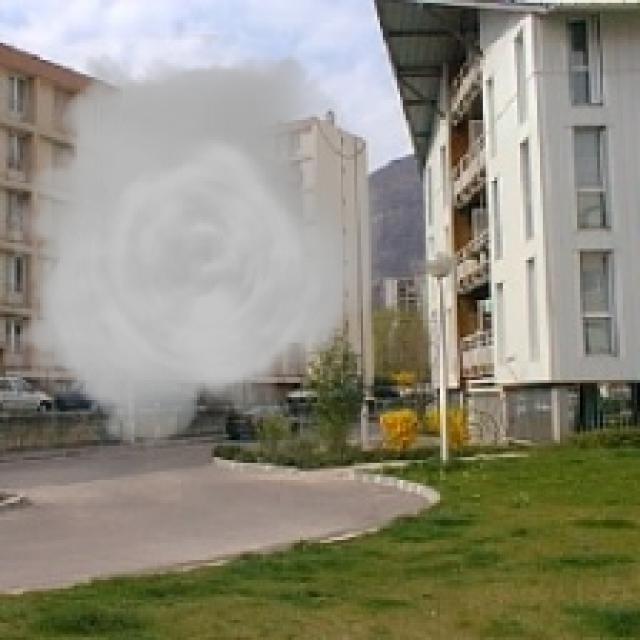Smoke: (14, 34, 383, 460)
